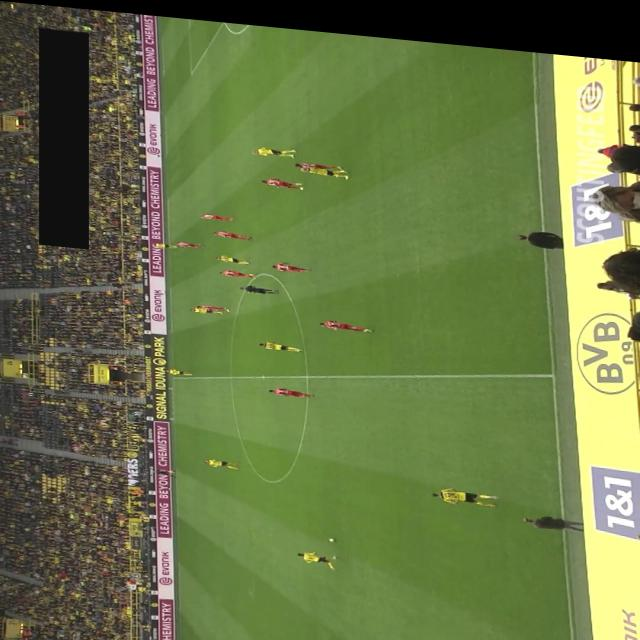player: (430, 477, 499, 498), (297, 543, 339, 564), (318, 311, 374, 325), (252, 139, 298, 153), (301, 158, 349, 171), (268, 380, 314, 392), (258, 334, 304, 346), (262, 171, 304, 184), (294, 154, 342, 164), (272, 255, 312, 267), (212, 225, 252, 235), (204, 453, 240, 464), (219, 263, 257, 273), (215, 249, 249, 259), (200, 208, 234, 217), (190, 301, 223, 310), (176, 236, 204, 244), (198, 300, 230, 307), (165, 364, 193, 372), (152, 238, 178, 245)
referee: (240, 279, 278, 290), (154, 464, 176, 474)
